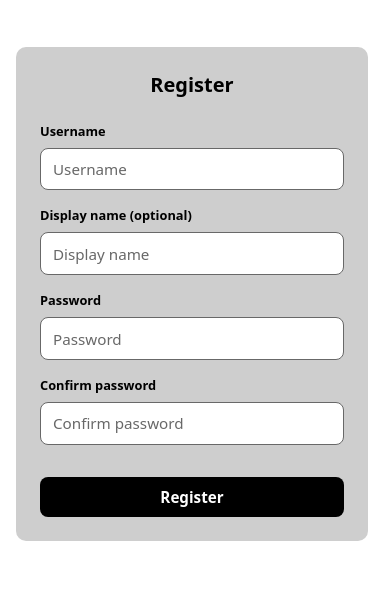
RegisterPage › shows the expected registration error
Type "tester" into the field labelled "Username" at (192, 169), box [40,148,344,190]
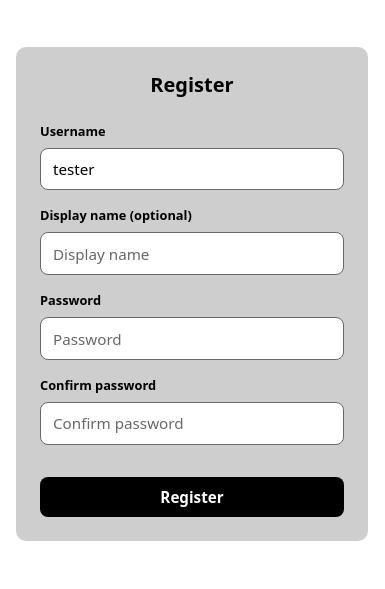
Type "password" into the password field labelled "Password" at (192, 338), box [40,317,344,360]
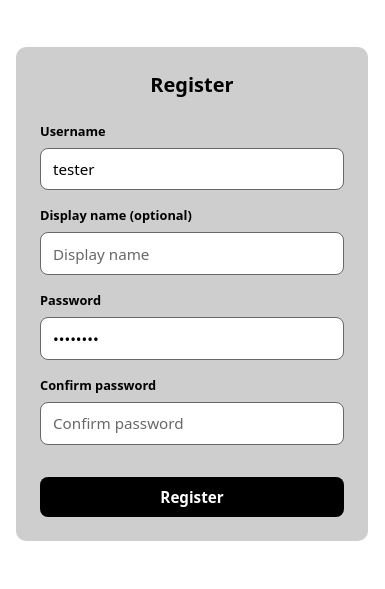
Type "password" into the password field labelled "Confirm password" at (192, 423), box [40,402,344,445]
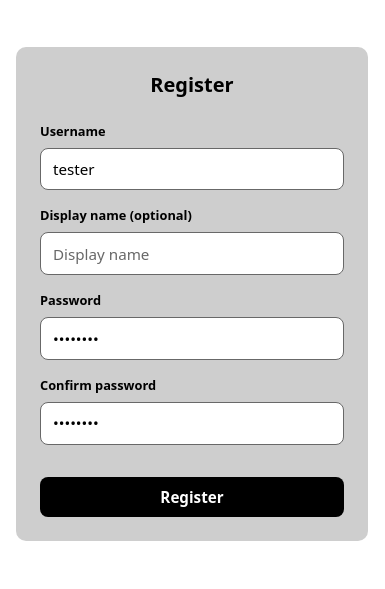
Submit the form with id "login-form"
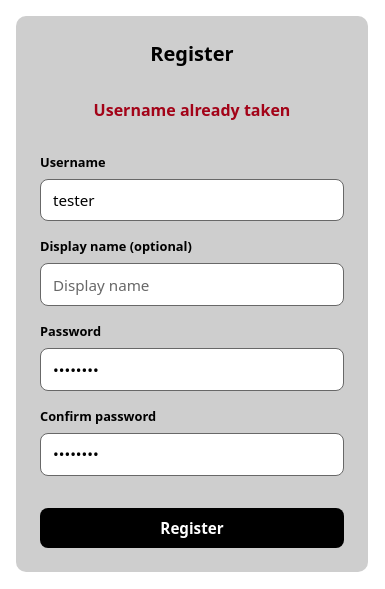
Result: the text "Username already taken" is shown at [94,98,290,120]
